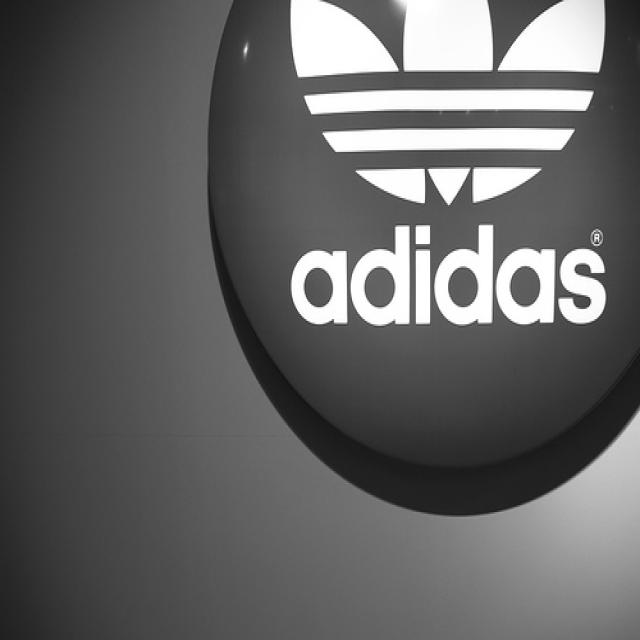adidas: (274, 3, 619, 336)
